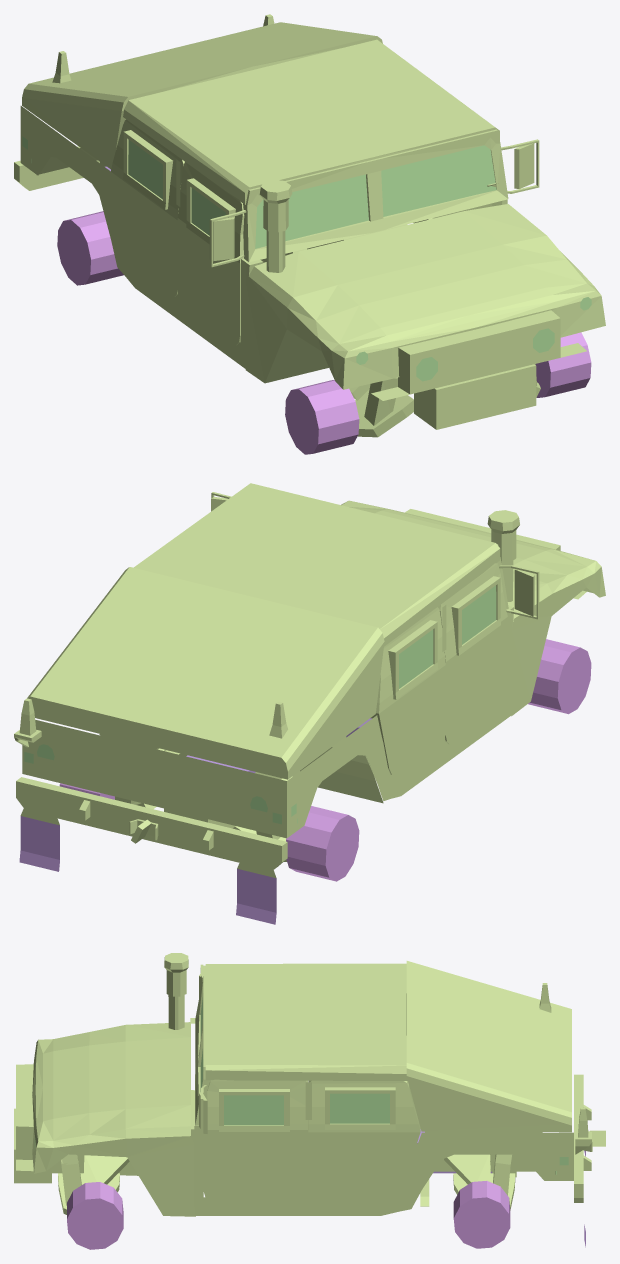
File: land-wheeled-humvee-default--wheels-destroyed.glb
The picture shows the model from 3 angles, top to bottom: view 1: azimuth 30°, elevation 25°; view 2: azimuth 150°, elevation 25°; view 3: azimuth 270°, elevation 25°; orthographic projection. The views are drawn at different scales.
Visible parts, largest first — view 1: CC_HumveeSUV_01, CC_WHL_05_Fastback_RearRight_Destroyed_1, CC_WHL_05_Fastback_RearRight_Destroyed_3, CC_WHL_05_Fastback_RearRight_Destroyed_0; view 2: CC_HumveeSUV_01, CC_WHL_05_Fastback_RearRight_Destroyed_3, CC_WHL_05_Fastback_RearRight_Destroyed_1; view 3: CC_HumveeSUV_01, CC_WHL_05_Fastback_RearRight_Destroyed_2, CC_WHL_05_Fastback_RearRight_Destroyed_0.
Part boxes in pixels (x1,y1,x2,y2): CC_HumveeSUV_01: (14, 14, 605, 437); CC_WHL_05_Fastback_RearRight_Destroyed_1: (285, 380, 359, 454); CC_WHL_05_Fastback_RearRight_Destroyed_3: (57, 211, 123, 285); CC_WHL_05_Fastback_RearRight_Destroyed_0: (535, 332, 591, 397); CC_HumveeSUV_01: (14, 483, 605, 924); CC_WHL_05_Fastback_RearRight_Destroyed_3: (286, 806, 359, 881); CC_WHL_05_Fastback_RearRight_Destroyed_1: (528, 639, 591, 714); CC_HumveeSUV_01: (14, 953, 605, 1247); CC_WHL_05_Fastback_RearRight_Destroyed_2: (453, 1181, 510, 1248); CC_WHL_05_Fastback_RearRight_Destroyed_0: (67, 1182, 123, 1249).
Bounding box in the file's own units: 3.07 × 2.04 × 5.73.
